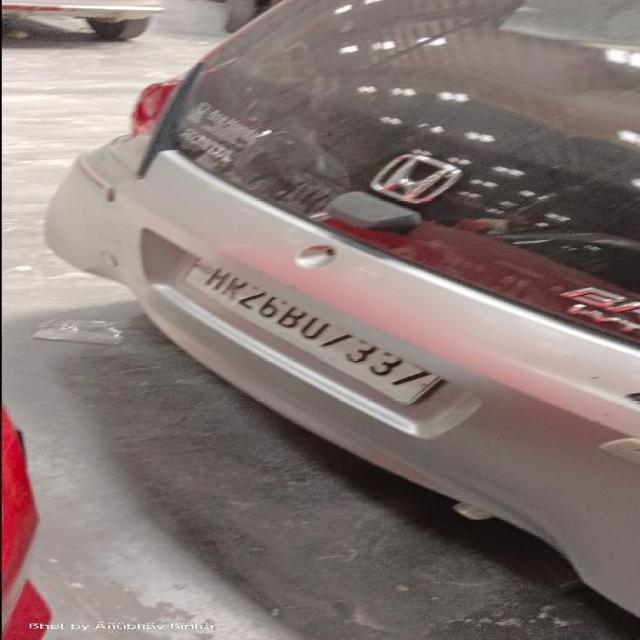license_plate: (42, 0, 636, 618), (176, 256, 447, 406)
